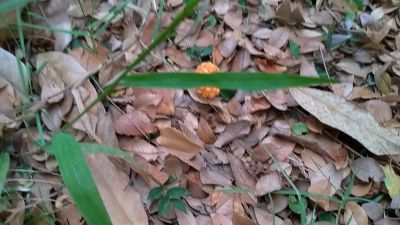eggs: (191, 59, 224, 98)
